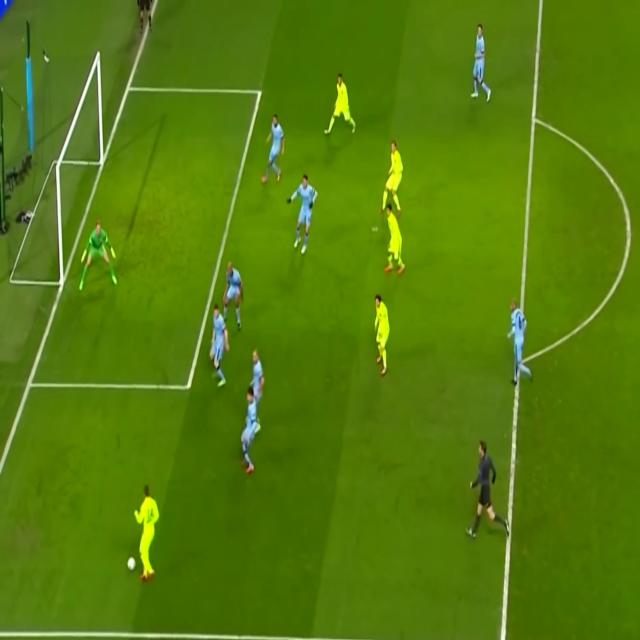Ball: (128, 552, 138, 576)
GoalKeeper: (78, 220, 120, 292)
TEAM 1: (135, 475, 159, 587), (323, 72, 359, 137), (381, 142, 405, 219), (384, 204, 406, 278), (372, 293, 391, 375)
TEAM 2: (286, 175, 318, 255), (507, 302, 531, 385), (240, 386, 260, 478), (260, 115, 285, 187), (210, 305, 231, 385), (221, 261, 244, 332), (471, 22, 489, 102), (248, 338, 263, 403)
